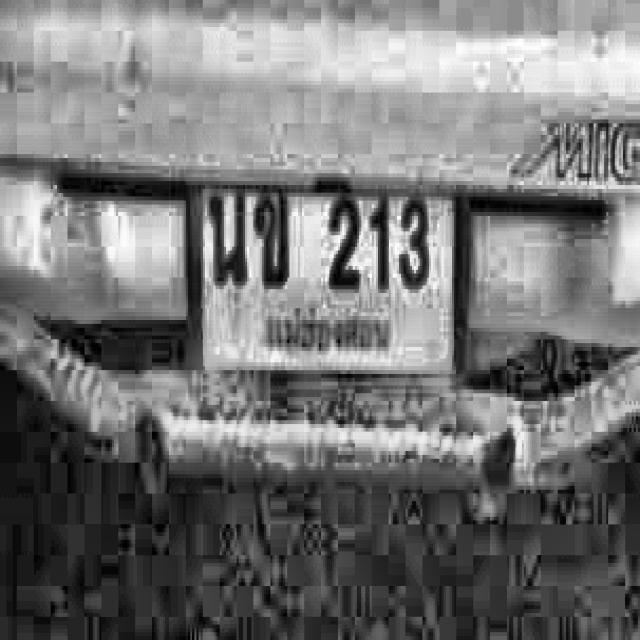license-plate: (184, 175, 470, 383)
